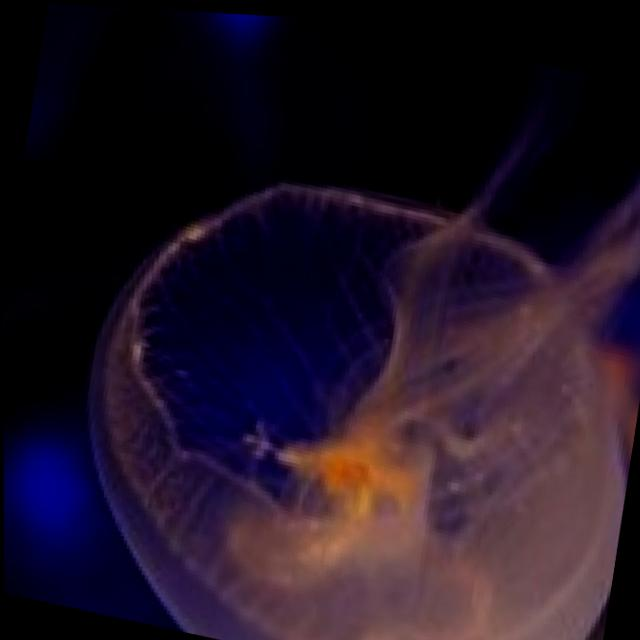Box-jellyfish: (47, 4, 640, 640)
